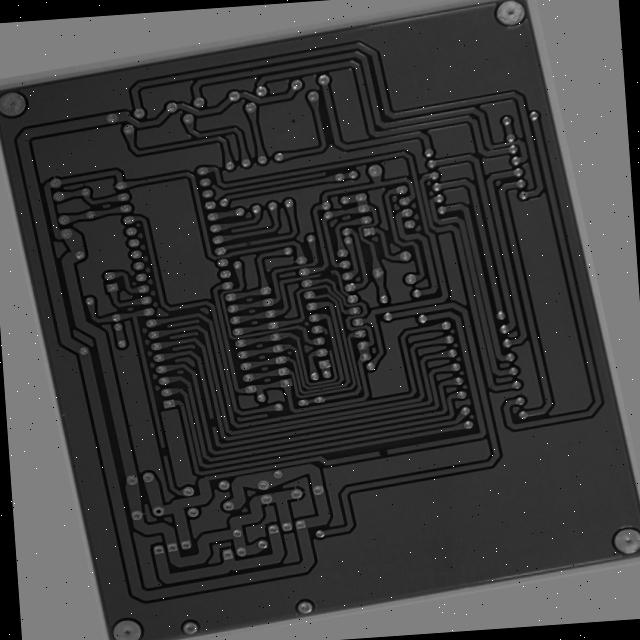open_circuit: (359, 464, 380, 476), (321, 331, 331, 356), (177, 409, 187, 427), (116, 436, 127, 452), (324, 266, 343, 273)
